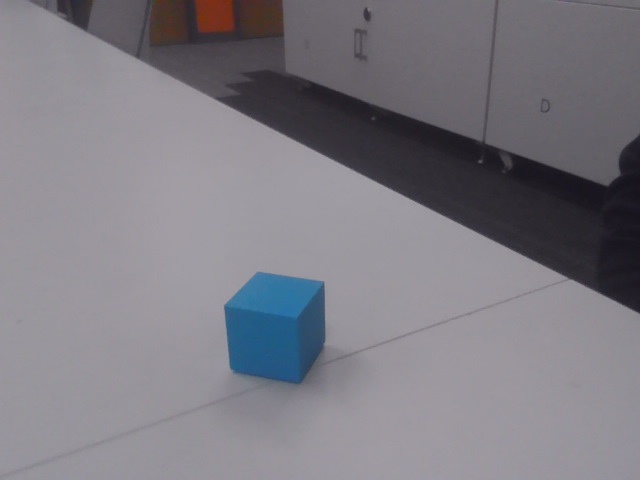cube: (224, 272, 325, 384)
